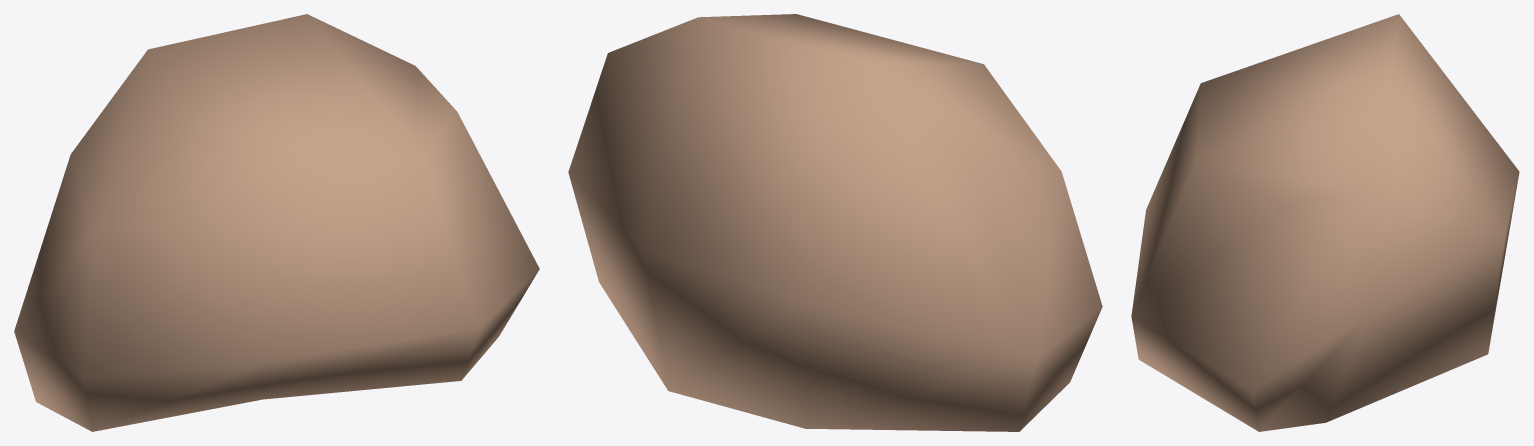
Rendered from Boulder_07_C.fbx.
3 renders of one model, left to right at view 1: azimuth 30°, elevation 25°; view 2: azimuth 150°, elevation 25°; view 3: azimuth 270°, elevation 25°, orthographic. The views are drawn at different scales.
Parts seen in each view (by area): view 1: Boulder_07_C; view 2: Boulder_07_C; view 3: Boulder_07_C.
Part boxes in pixels (<box>): Boulder_07_C: <box>14,14,539,431</box>; Boulder_07_C: <box>568,14,1102,431</box>; Boulder_07_C: <box>1131,14,1519,431</box>.
Bounding box in the file's own units: 199 × 130 × 152.
